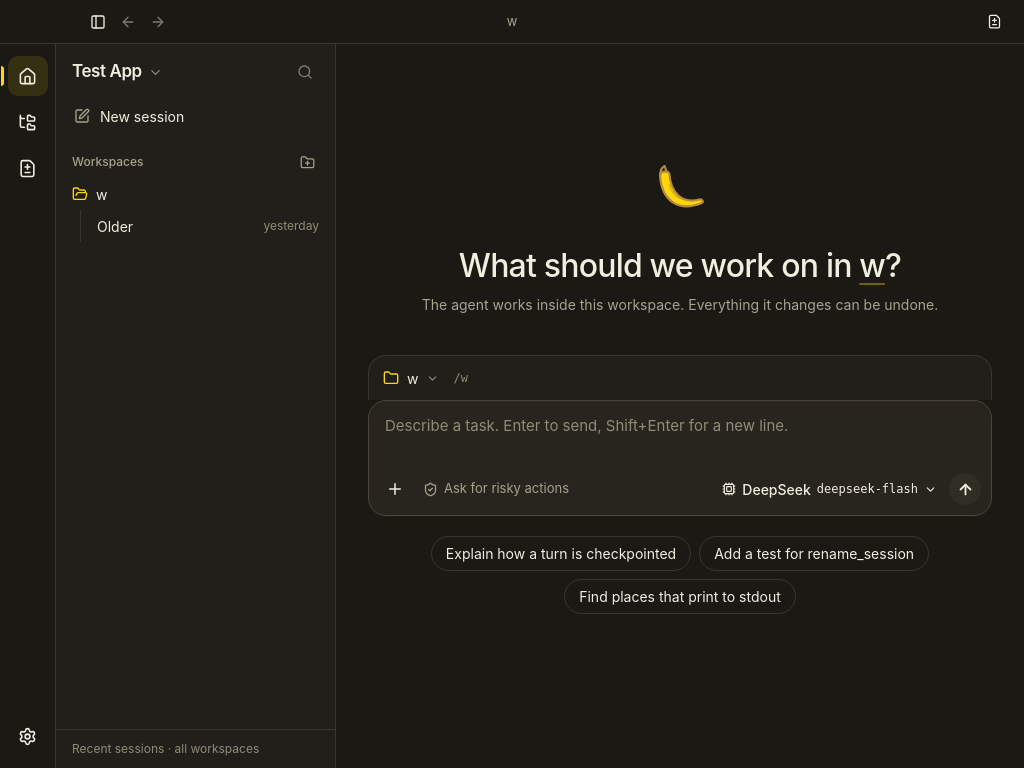
Test: the approval dialog › the dialog closes at once and a refusal from the sidecar changes nothing
Expected: the text "Older" is shown, x1=97 y1=218 x2=133 y2=234
Type "go" into the text box labelled "task". click: (680, 435)
box: x1=369 y1=401 x2=991 y2=469
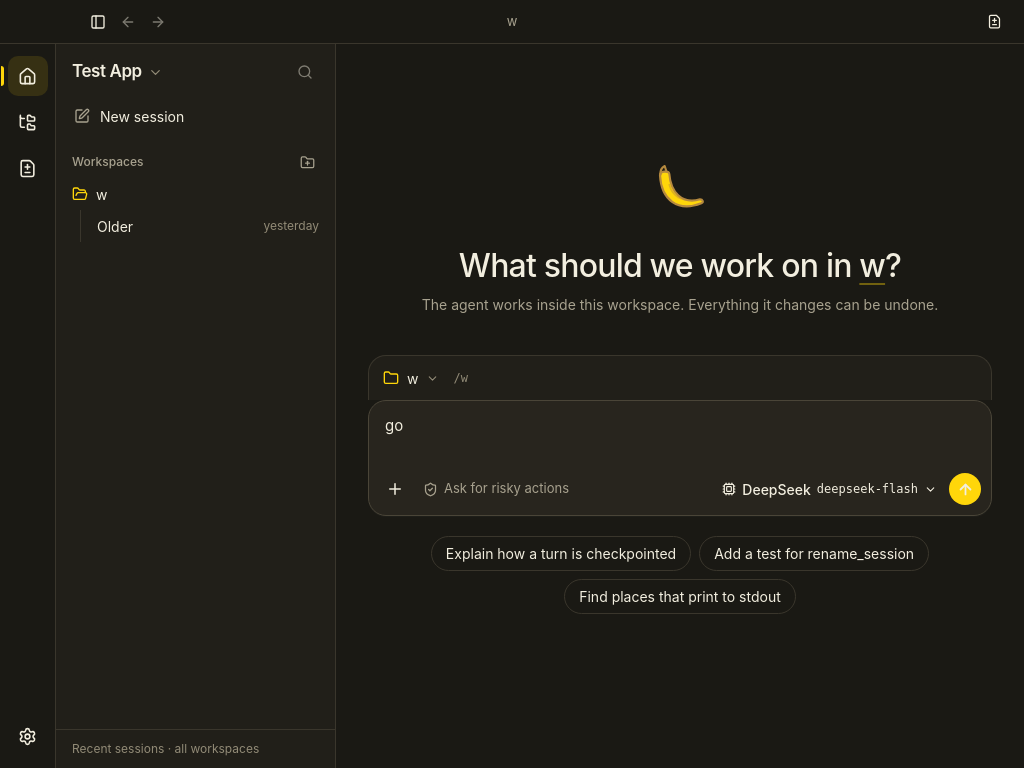
Click the button named "Send". click: (965, 489)
box: x1=949 y1=473 x2=981 y2=505
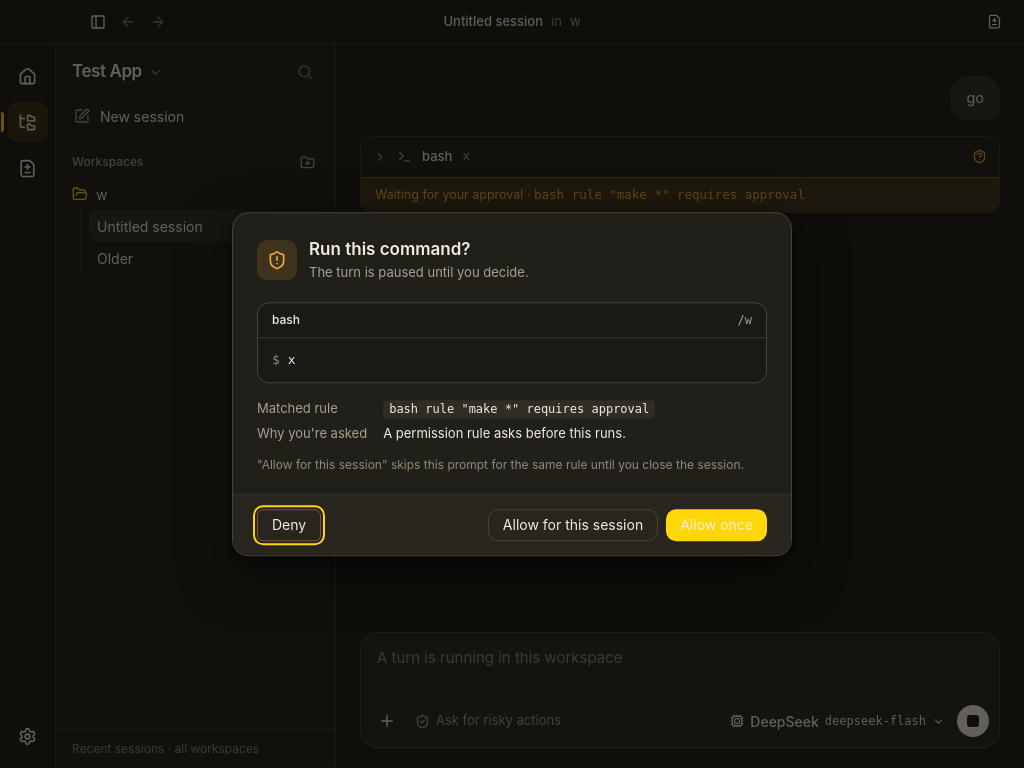
Click the button "Allow once". click: (717, 525)
box: x1=666 y1=509 x2=767 y2=541
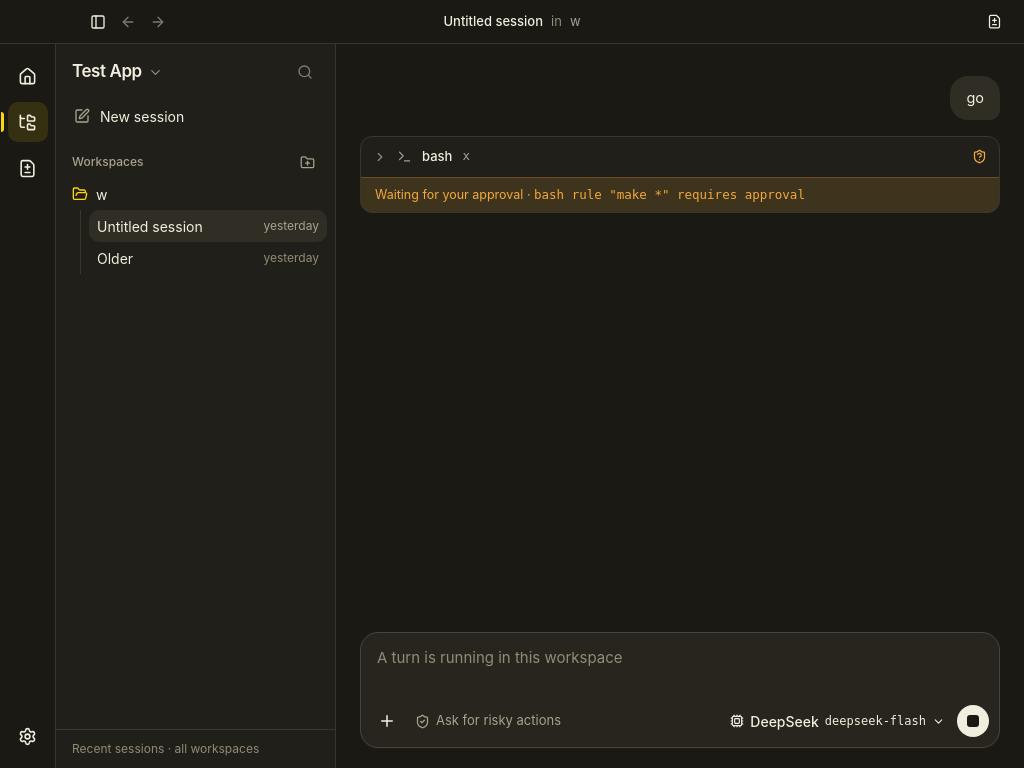
Now the dialog is gone
